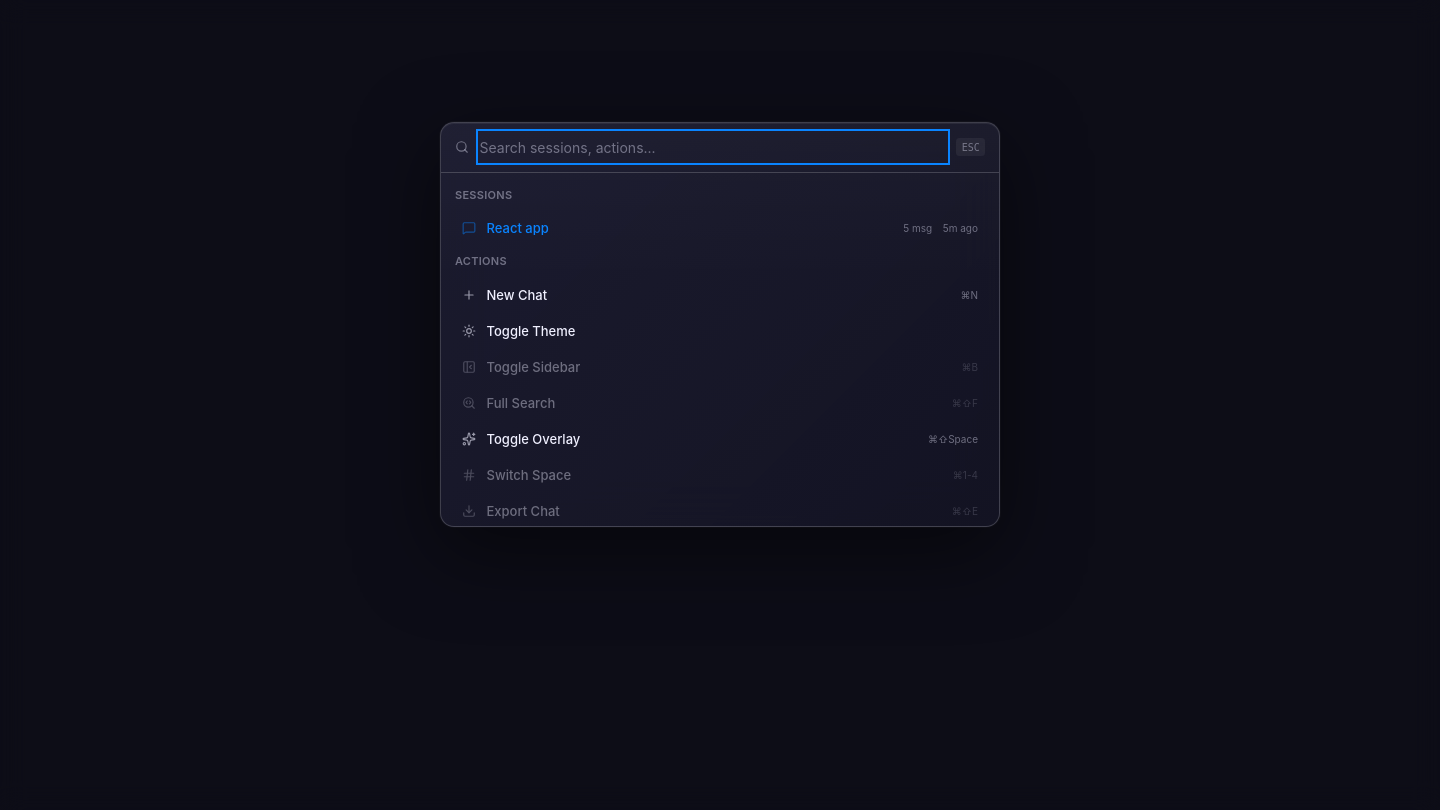
Flow: Command Palette › shows 'No results found' for empty search
Type "zzzznonexistent" into the dropdown with placeholder "Search sessions, actions..." at point(713, 147), box [480,133,946,161]
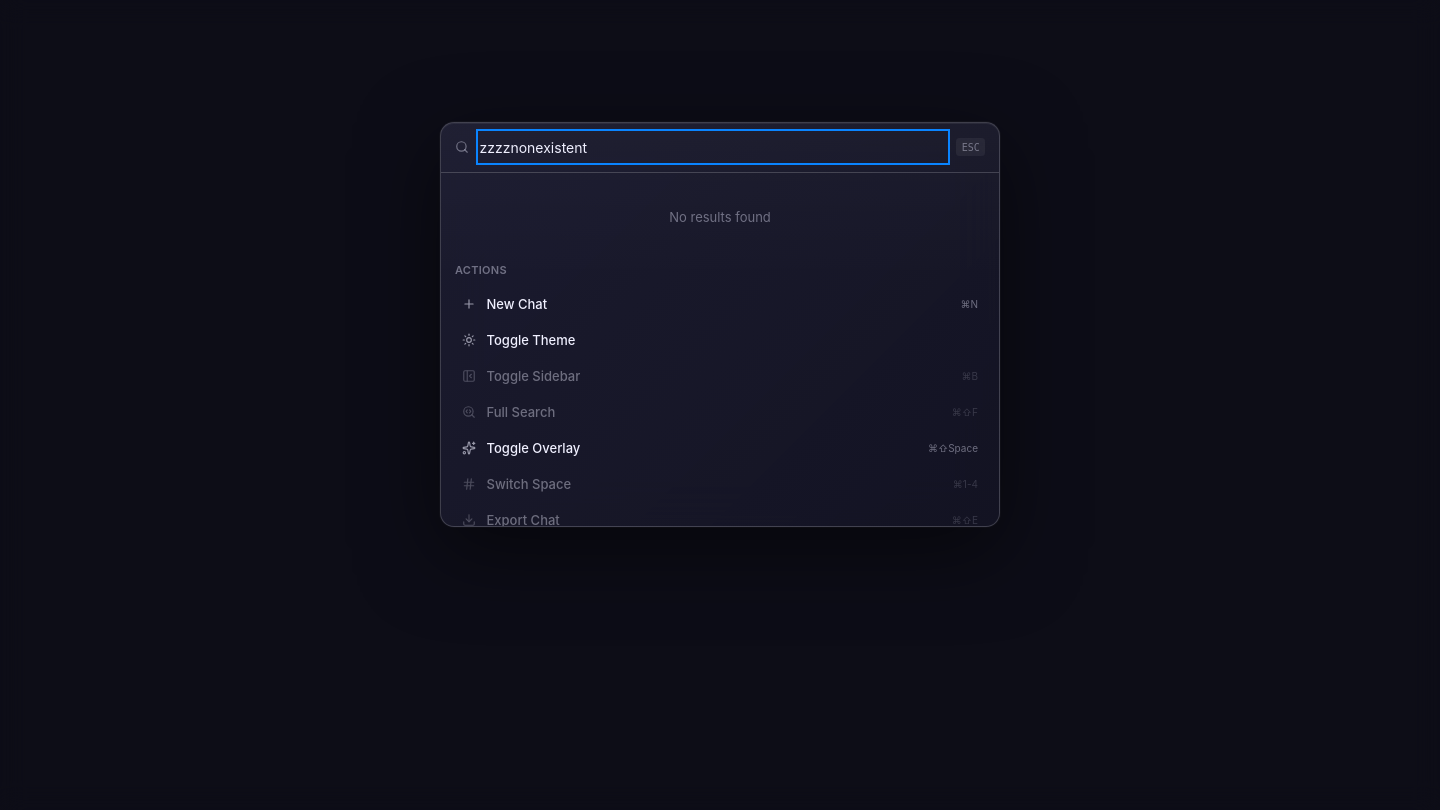
Check: the text "No results found" is shown, box [669,208,771,224]
Check: the option "React app" is gone
